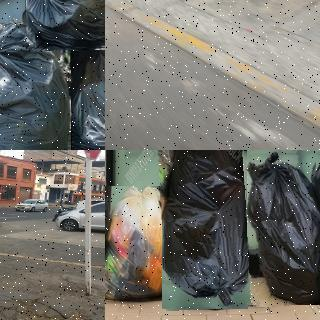Garbage: (159, 150, 250, 310), (244, 150, 320, 306), (0, 24, 71, 150), (105, 186, 178, 301), (70, 20, 105, 150), (24, 0, 105, 50)
